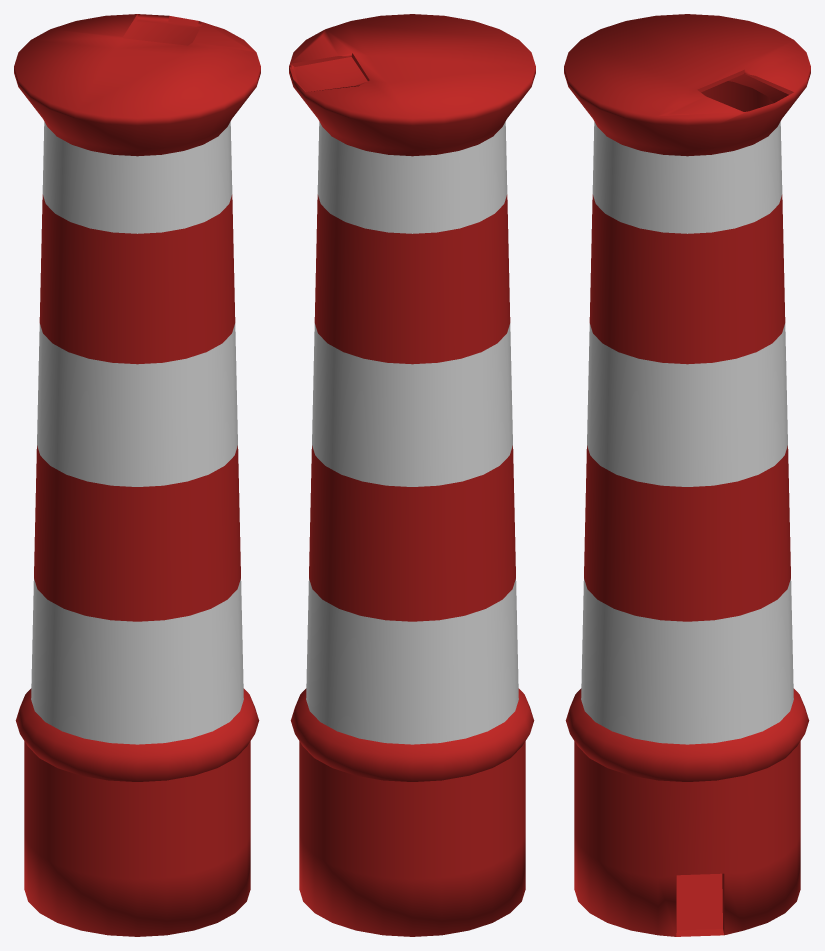
Rendered from lighthousemodel_OUT7.fbx.
3 views of the same model, side by side, from view 1: azimuth 30°, elevation 25°; view 2: azimuth 150°, elevation 25°; view 3: azimuth 270°, elevation 25° (orthographic).
Parts seen in each view (by area): view 1: majakka_base; view 2: majakka_base; view 3: majakka_base.
Part boxes in pixels (x1,y1,x2,y2): majakka_base: [14, 14, 260, 936]; majakka_base: [289, 14, 535, 936]; majakka_base: [564, 14, 810, 936].
Bounding box in the file's own units: 1307 × 4831 × 1307.
